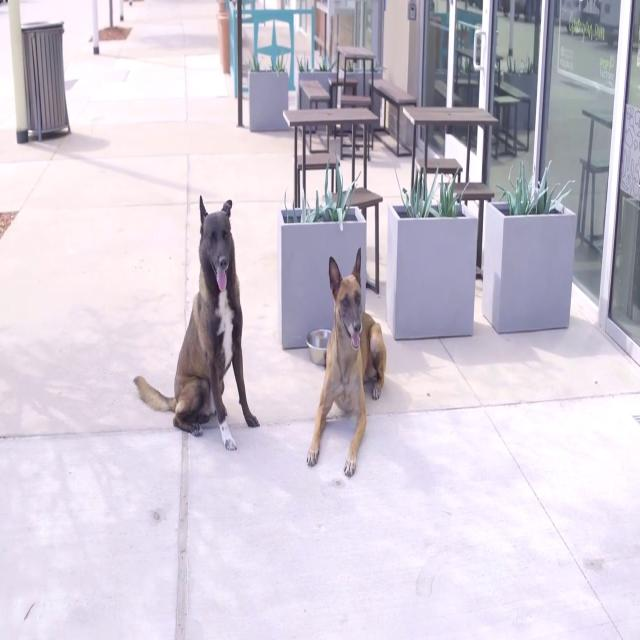Dog: (132, 195, 261, 452), (306, 247, 387, 478)
